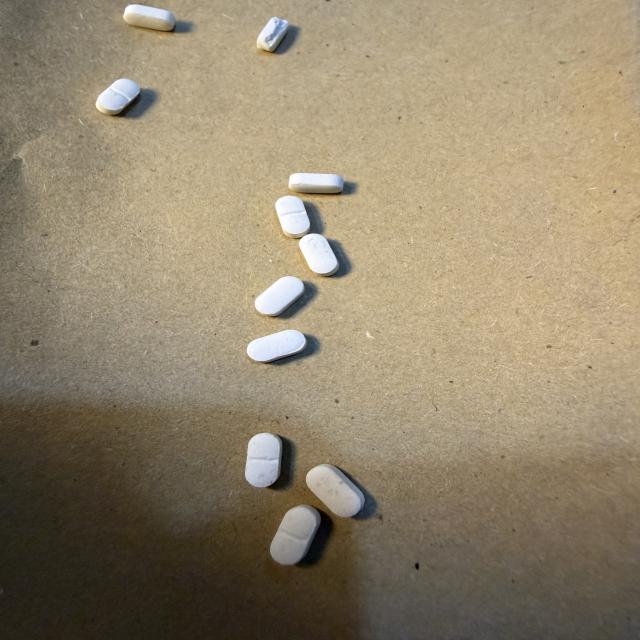pill: (307, 464, 364, 517), (270, 505, 320, 565), (245, 433, 282, 487), (255, 277, 304, 316), (247, 330, 306, 362), (299, 234, 339, 276), (96, 79, 139, 115), (276, 196, 310, 237), (124, 5, 175, 31), (257, 17, 289, 51), (289, 174, 343, 193)
